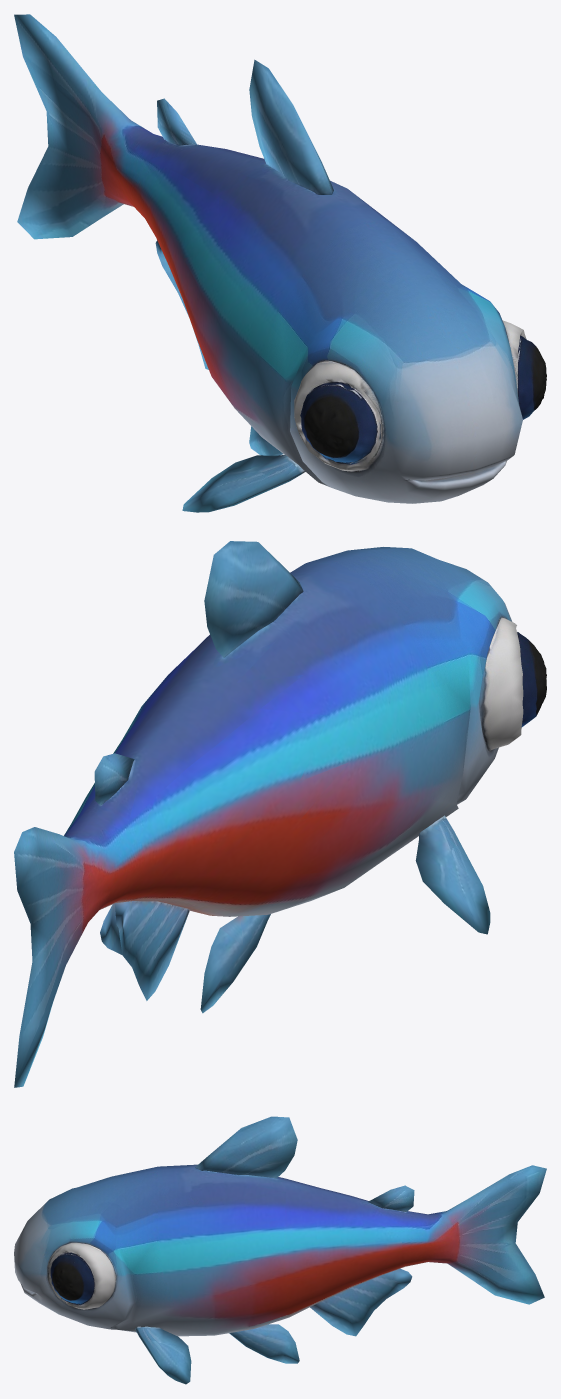
File: neon_tetra_clean.glb
3 views of the same model, one above another, from view 1: azimuth 30°, elevation 25°; view 2: azimuth 150°, elevation 25°; view 3: azimuth 270°, elevation 25° (orthographic). The views are drawn at different scales.
Parts seen in each view (by area): view 1: tripo_node_616402cd-faa6-4878-b389-83bc1c98c289; view 2: tripo_node_616402cd-faa6-4878-b389-83bc1c98c289; view 3: tripo_node_616402cd-faa6-4878-b389-83bc1c98c289.
Boxes of the visible parts, bbox=[...] form: tripo_node_616402cd-faa6-4878-b389-83bc1c98c289: bbox=[14, 14, 546, 512]; tripo_node_616402cd-faa6-4878-b389-83bc1c98c289: bbox=[14, 541, 546, 1087]; tripo_node_616402cd-faa6-4878-b389-83bc1c98c289: bbox=[14, 1116, 546, 1384].
Bounding box in the file's own units: 0.42 × 0.51 × 1.
Materials: 1 (1 with a texture image).
